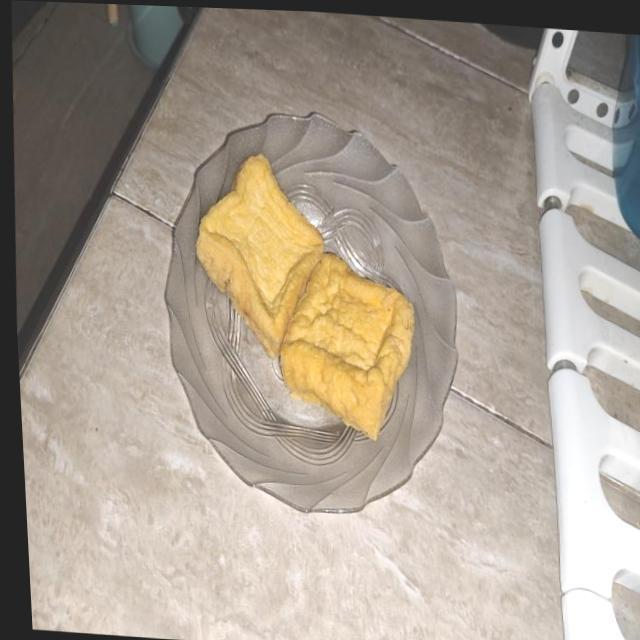tahu_goreng: (196, 153, 324, 358), (280, 252, 414, 440)
